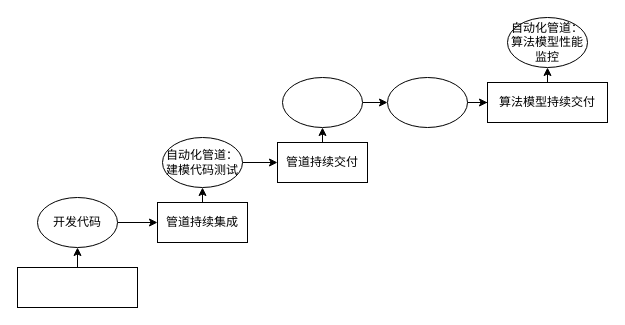
The diagram is 625 pixels wide and 325 high, and some of its shapes have lost their labels. Here are the shapes that lost their labels. From the top down, the centre of each, then its label:
At [322,102]: "自动化管道：算法模型持续训练".
At [427,102]: "生成最优算法模型".
At [77,287]: "算法模型开发/实验".
